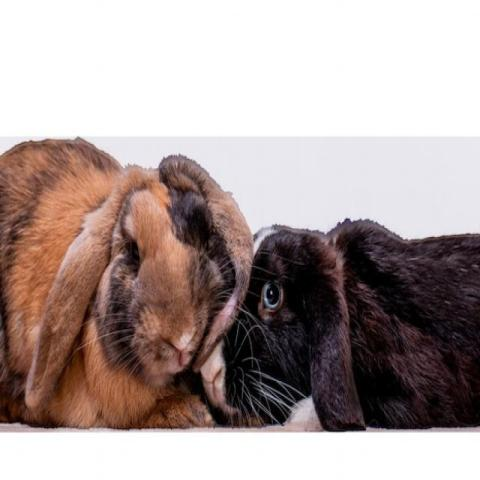small_animal: (0, 135, 256, 430), (220, 215, 480, 432)
